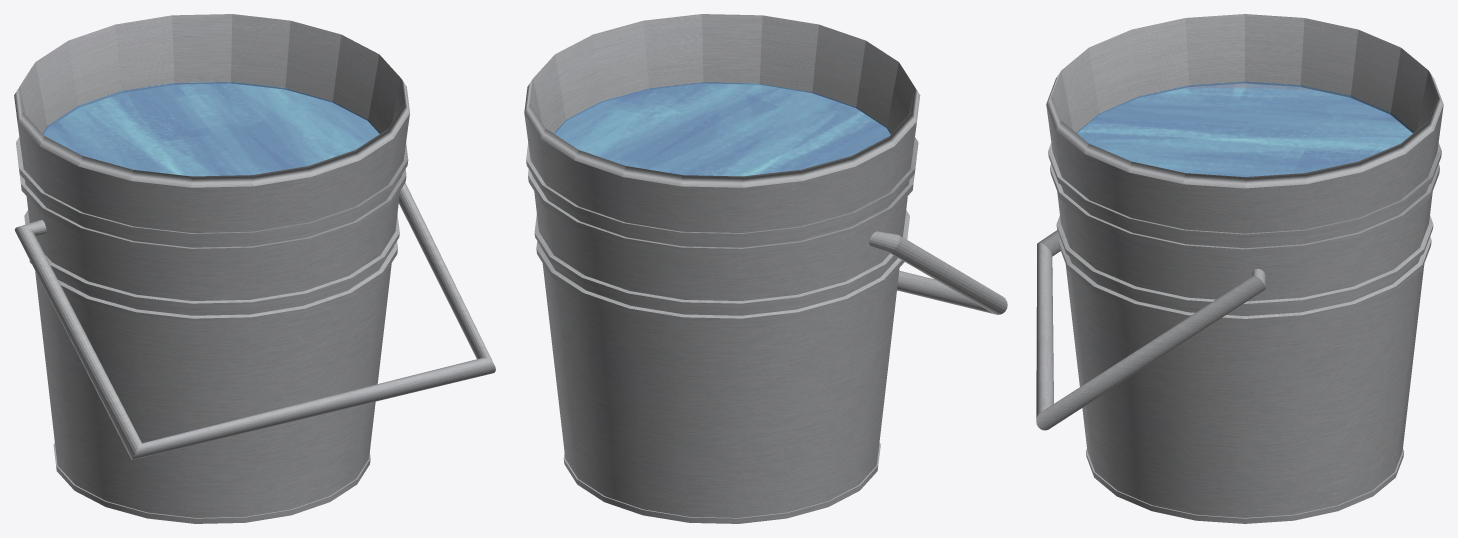
The model's file is BucketWithBlueLiquid.fbx.
3 renders of one model, left to right at view 1: azimuth 30°, elevation 25°; view 2: azimuth 150°, elevation 25°; view 3: azimuth 270°, elevation 25°, orthographic.
Parts seen in each view (by area): view 1: PaintBocket; view 2: PaintBocket; view 3: PaintBocket.
Boxes of the visible parts, box(x1,y1,x2,y2) form: PaintBocket: box(14, 14, 495, 523); PaintBocket: box(524, 14, 1007, 523); PaintBocket: box(1036, 14, 1443, 523).
Bounding box in the file's own units: 42.73 × 40.13 × 41.
